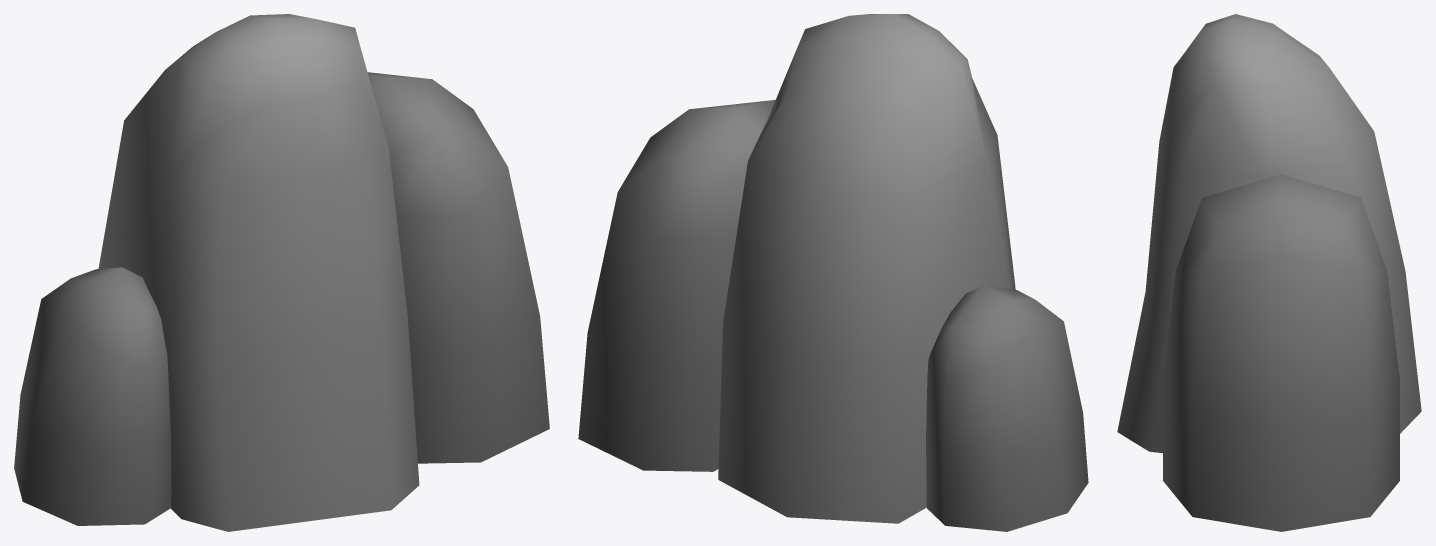
File: Rock_03_B.fbx
3 views of the same model, side by side, from view 1: azimuth 30°, elevation 25°; view 2: azimuth 150°, elevation 25°; view 3: azimuth 270°, elevation 25° (orthographic). The views are drawn at different scales.
Visible parts, largest first — view 1: Rock_03_B; view 2: Rock_03_B; view 3: Rock_03_B.
Boxes of the visible parts, x1,y1,x2,y2 form: Rock_03_B: (14, 14, 549, 531); Rock_03_B: (578, 14, 1088, 531); Rock_03_B: (1117, 14, 1421, 531).
Size of the model in its own units: 6213 by 5308 by 3752.
